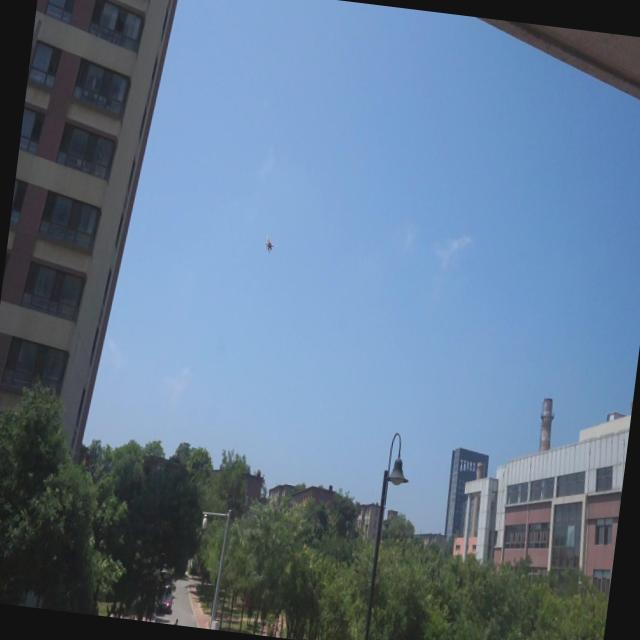drone: (262, 236, 276, 255)
